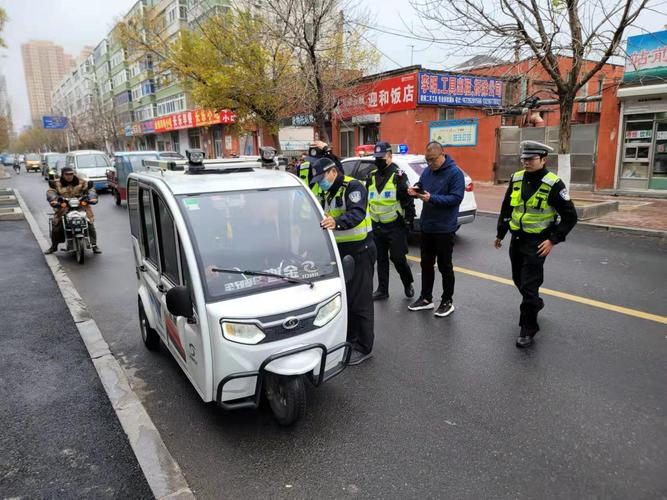empty: (91, 136, 367, 410)
